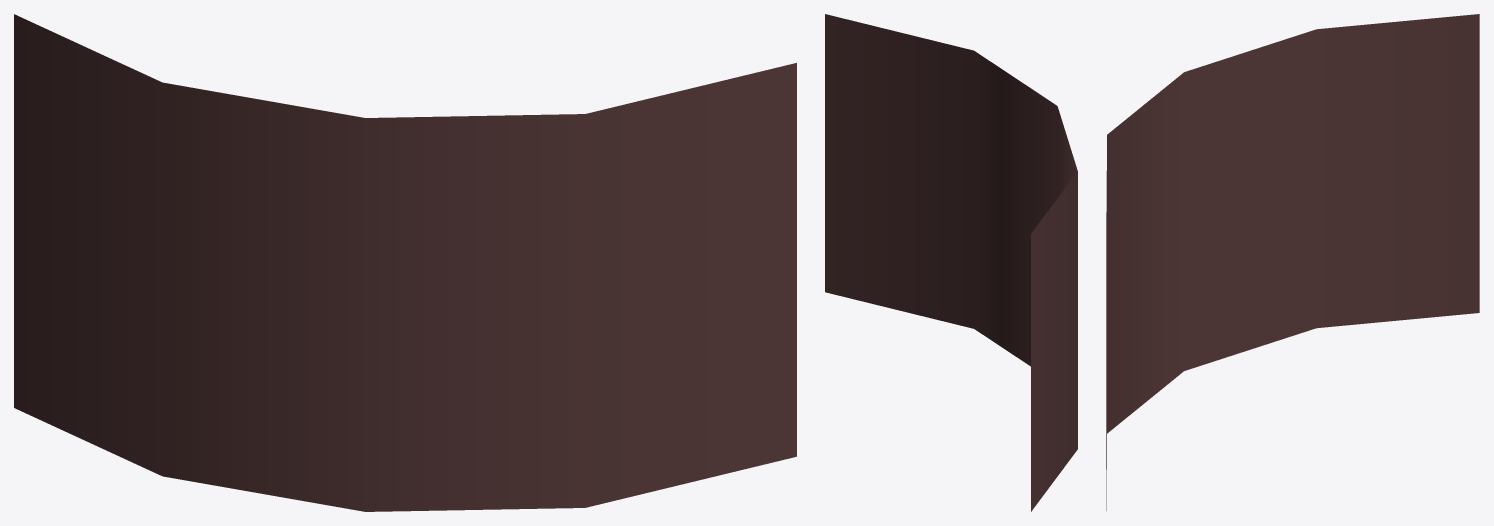
The model's file is AlleyWallI_1.fbx.
The picture shows the model from 3 angles, left to right: view 1: azimuth 30°, elevation 25°; view 2: azimuth 150°, elevation 25°; view 3: azimuth 270°, elevation 25°; orthographic projection. The views are drawn at different scales.
Parts seen in each view (by area): view 1: AlleyWallI_1; view 2: AlleyWallI_1; view 3: AlleyWallI_1.
Boxes of the visible parts, x1,y1,x2,y2 form: AlleyWallI_1: (14,14,796,511); AlleyWallI_1: (825,14,1077,511); AlleyWallI_1: (1106,14,1479,510).
Bounding box in the file's own units: 286 × 201 × 227.
